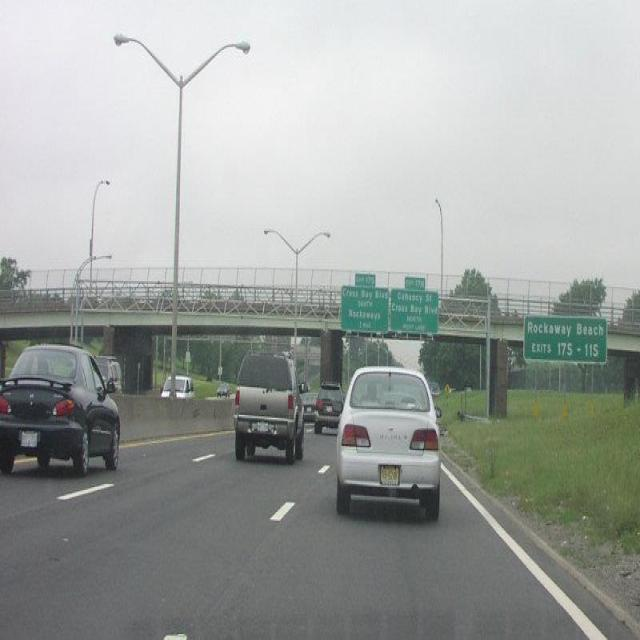Electric pole: (114, 32, 250, 398), (265, 228, 331, 364)
